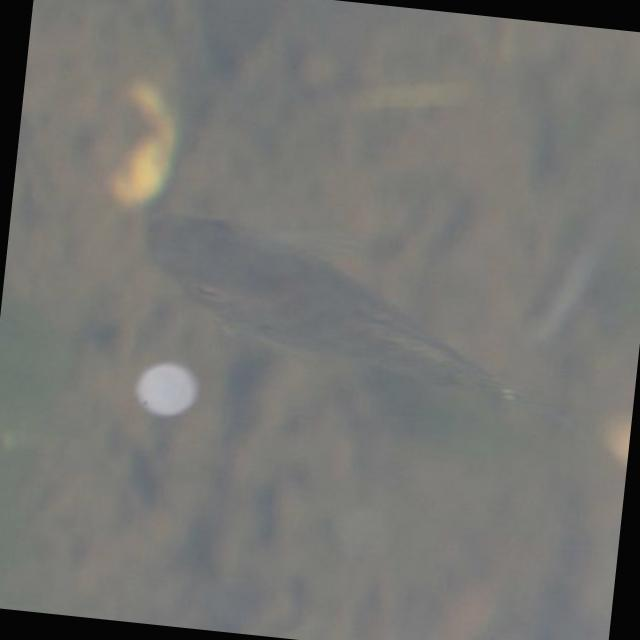Gunes Levregi: (112, 188, 546, 406)
